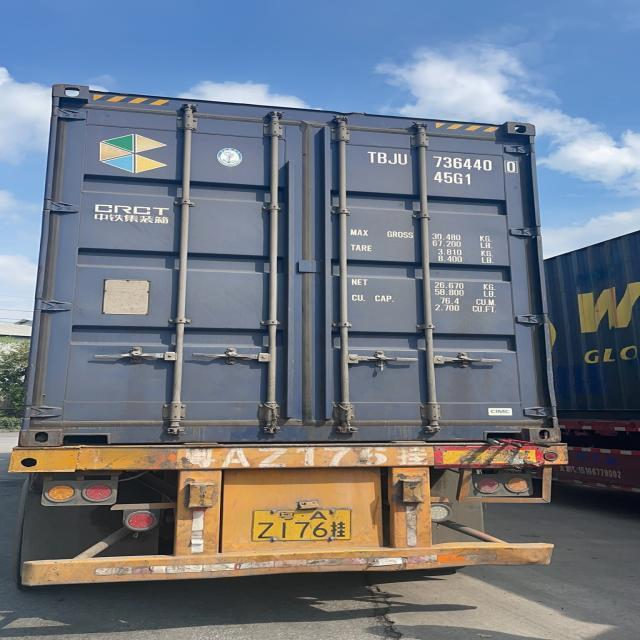ISO: (434, 171, 480, 189)
container_number: (357, 144, 523, 177)
